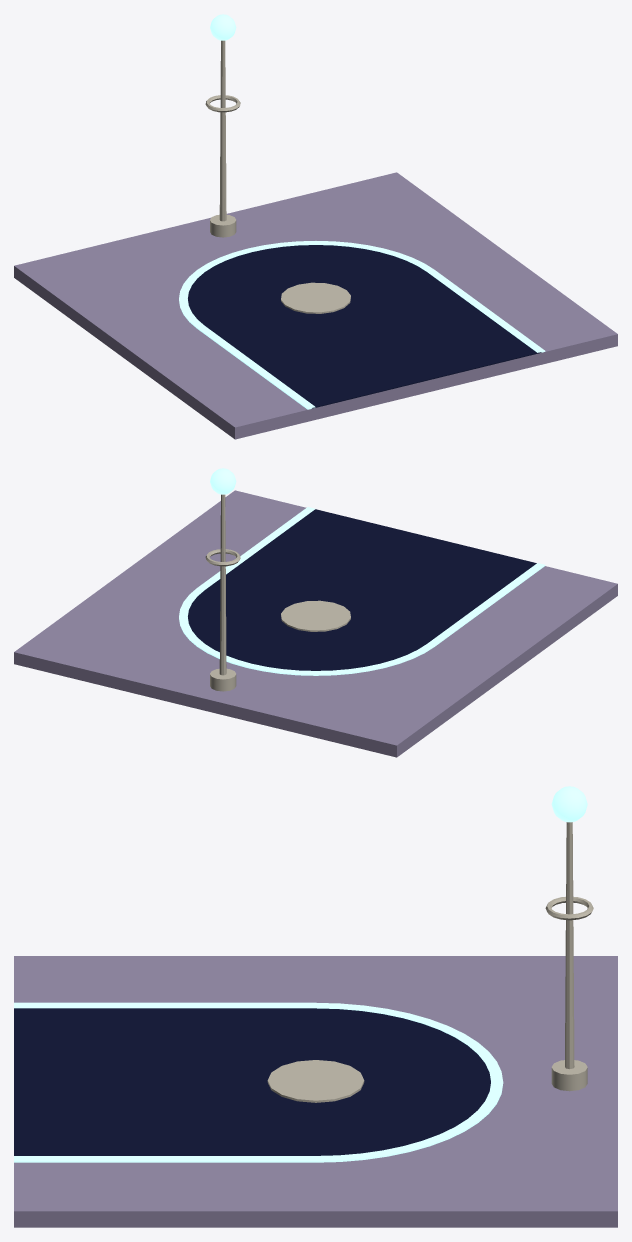
File: lane_end.glb
3 renders of one model, top to bottom at view 1: azimuth 30°, elevation 25°; view 2: azimuth 150°, elevation 25°; view 3: azimuth 270°, elevation 25°, orthographic. The views are drawn at different scales.
Parts seen in each view (by area): view 1: lane_end; view 2: lane_end; view 3: lane_end.
Part boxes in pixels (x1,y1,x2,y2): lane_end: [14, 14, 617, 439]; lane_end: [14, 468, 617, 757]; lane_end: [14, 786, 617, 1227].
Bounding box in the file's own units: 10 × 5.7 × 10.
